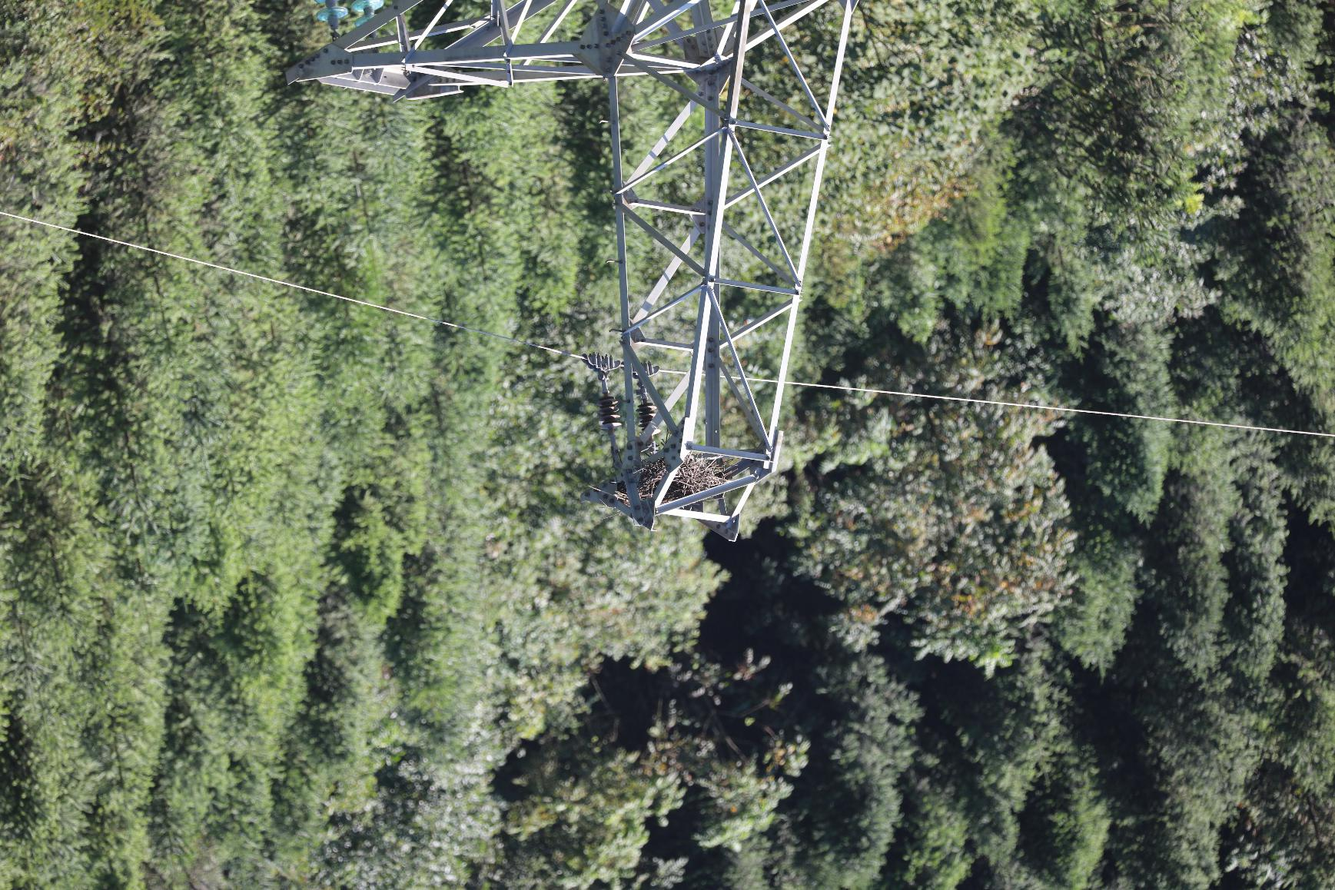nest: (634, 451, 729, 505)
